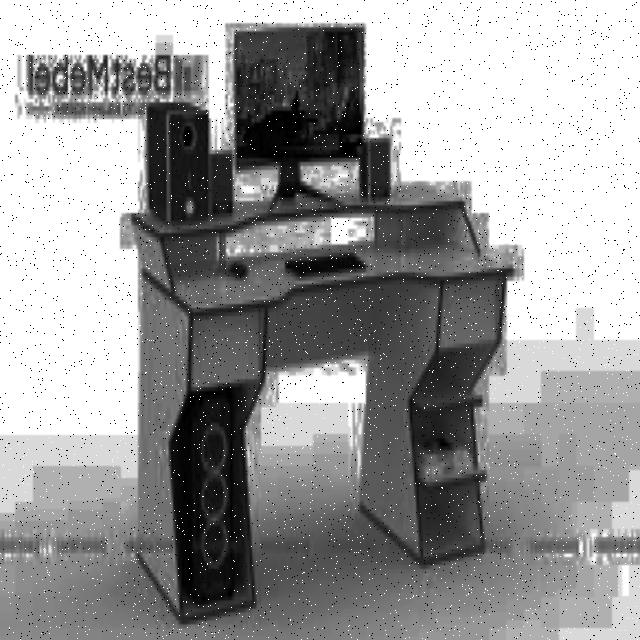table: (132, 182, 515, 620)
